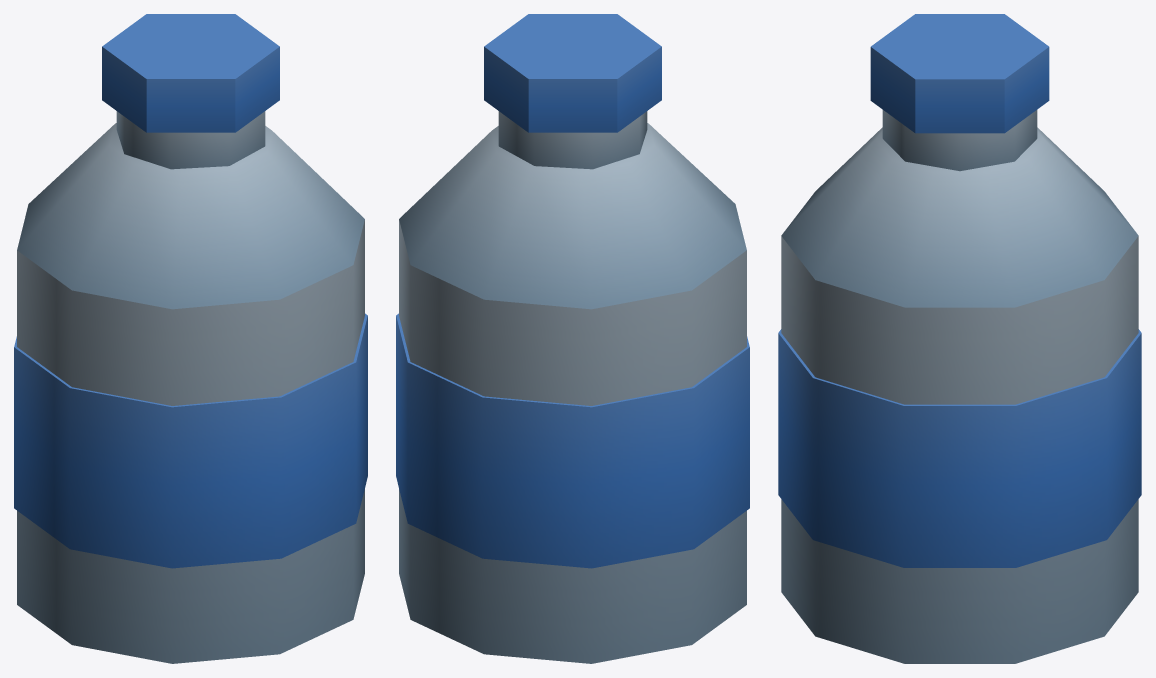
The model's file is dt_water_bottle.fbx.
3 views of the same model, side by side, from view 1: azimuth 30°, elevation 25°; view 2: azimuth 150°, elevation 25°; view 3: azimuth 270°, elevation 25° (orthographic).
Visible parts, largest first — view 1: dt_water_bottle; view 2: dt_water_bottle; view 3: dt_water_bottle.
Boxes of the visible parts, x1,y1,x2,y2 form: dt_water_bottle: (14, 14, 367, 663); dt_water_bottle: (396, 14, 749, 663); dt_water_bottle: (778, 14, 1141, 663).
Bounding box in the file's own units: 51.7 × 90 × 54.36.
